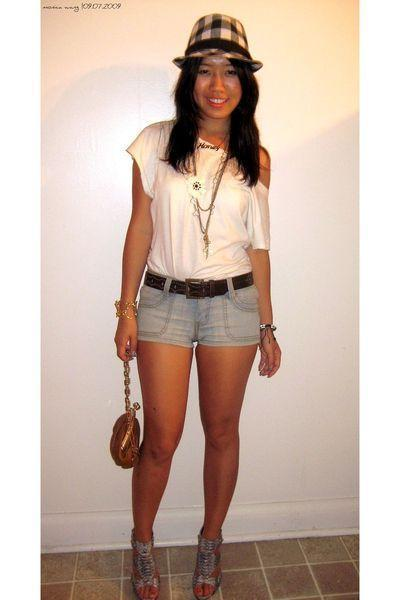bag: (110, 372, 147, 467)
hat: (173, 14, 262, 79)
shirt: (125, 108, 269, 281)
shoe: (123, 543, 221, 599)
shorts: (136, 276, 270, 347)
